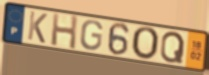6: (108, 22, 131, 58)
G: (79, 19, 104, 52)
H: (50, 12, 79, 52)
K: (26, 10, 49, 45)
O: (131, 26, 161, 62)
Q: (159, 30, 187, 64)
